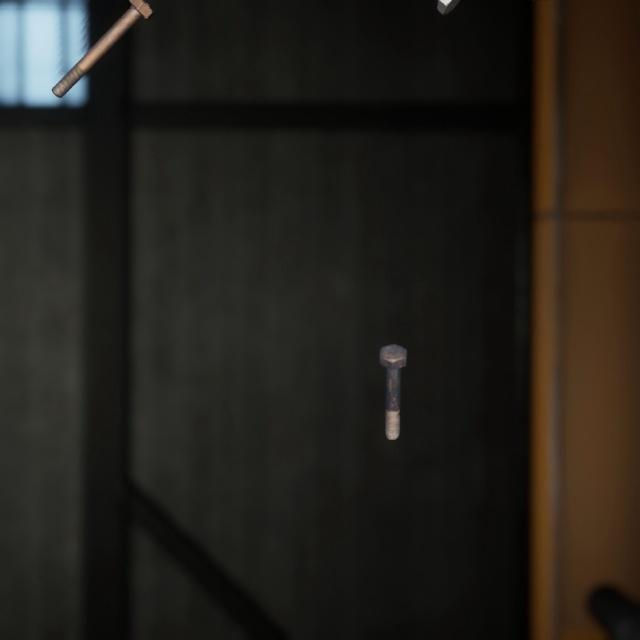bolt: (47, 0, 158, 93), (374, 321, 411, 426)
